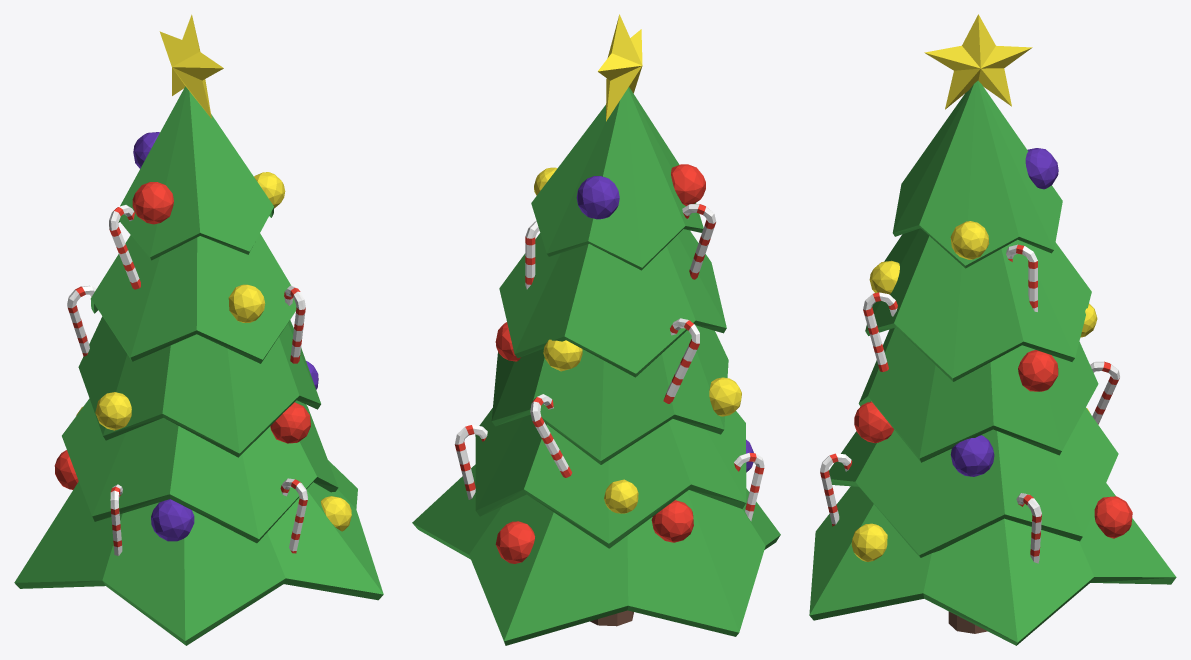
File: tree.glb
3 views of the same model, side by side, from view 1: azimuth 30°, elevation 25°; view 2: azimuth 150°, elevation 25°; view 3: azimuth 270°, elevation 25° (orthographic).
Parts seen in each view (by area): view 1: group1089073295; view 2: group1089073295; view 3: group1089073295.
Boxes of the visible parts, left/top/right/bottom form: group1089073295: left=14, top=14, right=383, bottom=645; group1089073295: left=412, top=14, right=780, bottom=645; group1089073295: left=809, top=14, right=1176, bottom=645.
Bounding box in the file's own units: 4.66 × 8 × 4.41.
